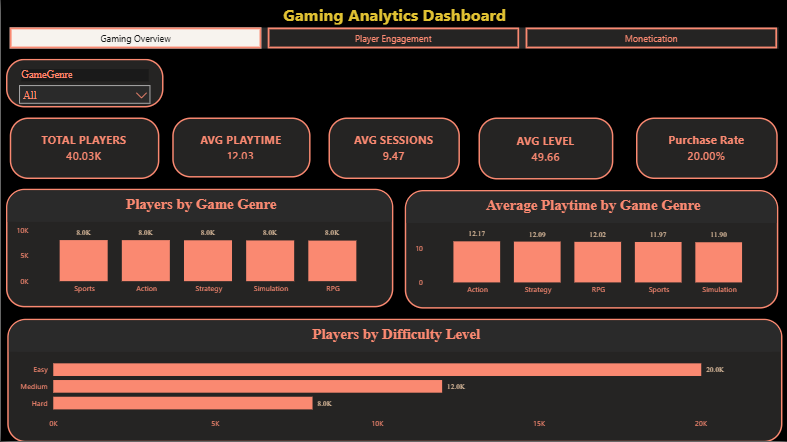

What the dashboard file says about the page in this screenshot:
{"tool":"powerbi","page":{"name":"Gaming Overview","canvas":[1280,720],"ordinal":0},"visuals":[{"type":"cardVisual","fields":{"Data":["player_statistics_cleaned.Total Players"]},"box":[14.2,191,242.8,99.7],"z":0},{"type":"cardVisual","fields":{"Data":["player_statistics_cleaned.Average Playtime"]},"box":[278.3,191,224.7,97.8],"z":1000},{"type":"textbox","box":[0,0,1280,45],"z":2000},{"type":"cardVisual","fields":{"Data":["player_statistics_cleaned.Average Sessions"]},"box":[532.3,191,213.8,99.7],"z":3000},{"type":"slicer","fields":{"Values":["player_statistics_cleaned.GameGenre"]},"box":[8.1,95.5,256,79.2],"z":4000},{"type":"cardVisual","fields":{"Data":["player_statistics_cleaned.Average Player Level"]},"box":[776.1,191,219.3,100.5],"z":5000},{"type":"clusteredColumnChart","title":"Players by Game Genre","fields":{"Category":["player_statistics_cleaned.GameGenre"],"Y":["CountNonNull(player_statistics_cleaned.PlayerID)"]},"box":[8.1,306.8,629.8,193],"z":6000},{"type":"cardVisual","fields":{"Data":["player_statistics_cleaned.Purchase Rate"]},"box":[1032.1,191,230.1,99.7],"z":7000},{"type":"clusteredColumnChart","title":"Average Playtime by Game Genre","fields":{"Category":["player_statistics_cleaned.GameGenre"],"Y":["Avg(player_statistics_cleaned.PlayTimeHours)"]},"box":[656.3,308.8,607.5,193],"z":8000},{"type":"clusteredBarChart","title":"Players by Difficulty Level","fields":{"Category":["player_statistics_cleaned.GameDifficulty"],"Y":["player_statistics_cleaned.TOTAL PLAYERS"]},"box":[10.2,518.1,1259.7,201.1],"z":9000},{"type":"pageNavigator","box":[14.2,44.7,1249.5,34.5],"z":10000}]}

Visuals, with their boxes in screenshot pixels (x1, y1, x2, y2), scaled from the page's 1280x720 canvas onto the 787x442 screenshot:
cardVisual - player_statistics_cleaned.Total Players: locate(9, 117, 158, 178)
cardVisual - player_statistics_cleaned.Average Playtime: locate(171, 117, 309, 177)
textbox: locate(0, 0, 786, 28)
cardVisual - player_statistics_cleaned.Average Sessions: locate(327, 117, 459, 178)
slicer - player_statistics_cleaned.GameGenre: locate(5, 59, 162, 107)
cardVisual - player_statistics_cleaned.Average Player Level: locate(477, 117, 612, 179)
"Players by Game Genre" clusteredColumnChart: locate(5, 188, 392, 307)
cardVisual - player_statistics_cleaned.Purchase Rate: locate(635, 117, 776, 178)
"Average Playtime by Game Genre" clusteredColumnChart: locate(404, 190, 777, 308)
"Players by Difficulty Level" clusteredBarChart: locate(6, 318, 781, 441)
pageNavigator: locate(9, 27, 777, 49)
